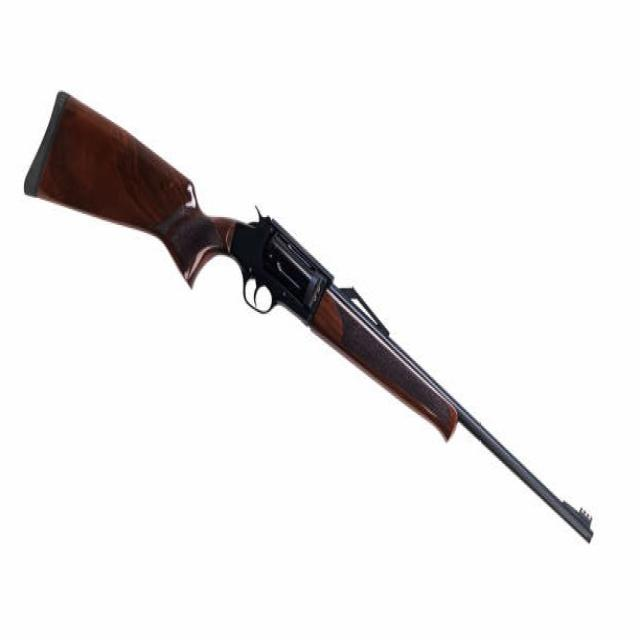rifle: (20, 81, 603, 553)
